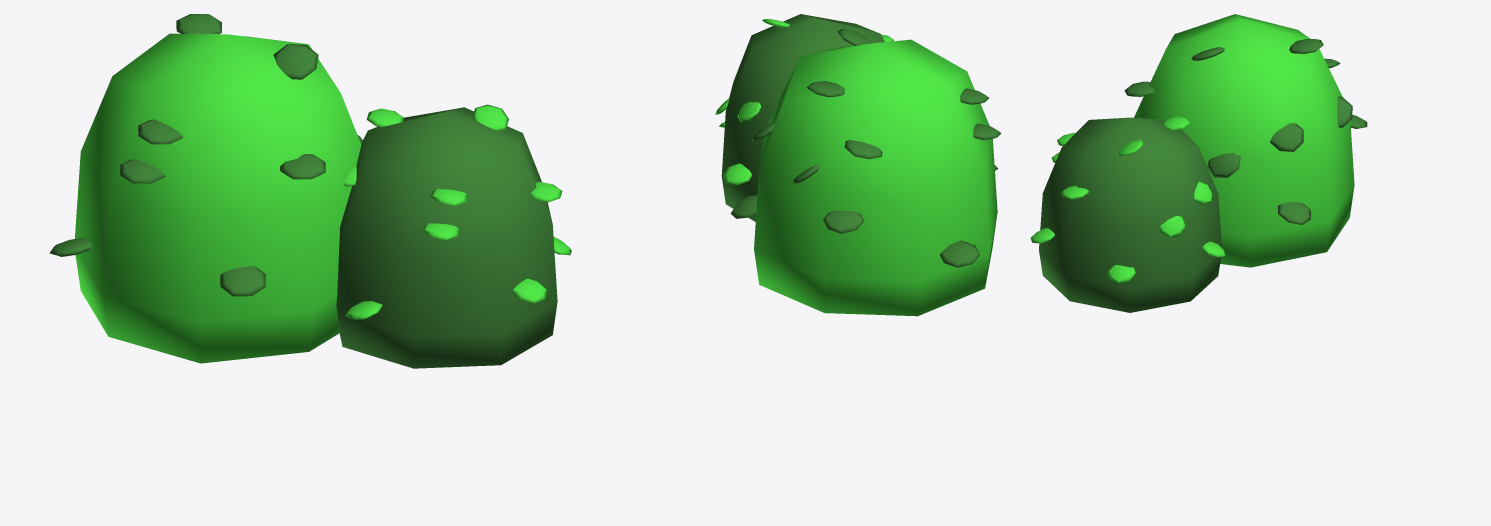
Rendered from Verano.fbx.
3 renders of one model, left to right at view 1: azimuth 30°, elevation 25°; view 2: azimuth 150°, elevation 25°; view 3: azimuth 270°, elevation 25°, orthographic. The views are drawn at different scales.
Parts seen in each view (by area): view 1: Cube.044, Cube.043; view 2: Cube.044, Cube.043; view 3: Cube.044, Cube.043.
Boxes of the visible parts, box(x1,y1,x2,y2) form: Cube.044: box(49, 14, 362, 363); Cube.043: box(336, 104, 571, 368); Cube.044: box(730, 28, 1001, 316); Cube.043: box(715, 14, 893, 221); Cube.044: box(1124, 14, 1367, 267); Cube.043: box(1030, 116, 1225, 312).
Size of the model in its own units: 368 by 457 by 459.
